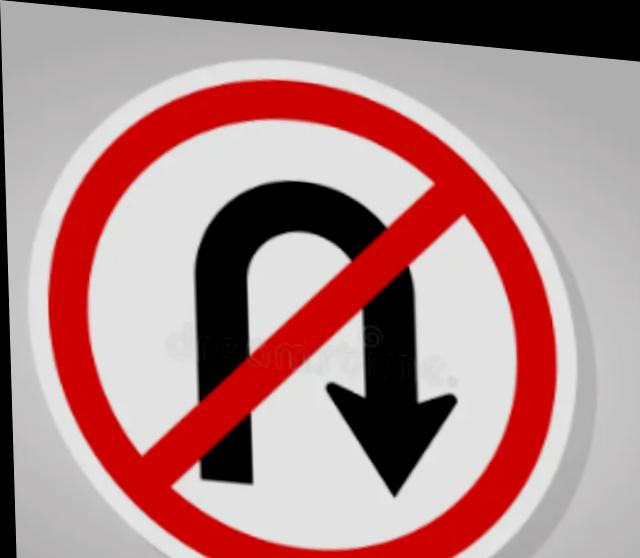not_u_turn_right: (35, 35, 598, 558)
